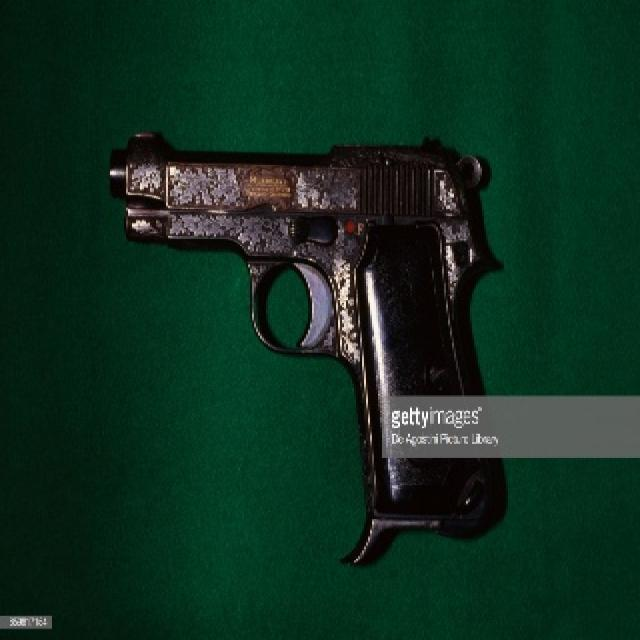handgun: (101, 127, 513, 549)
